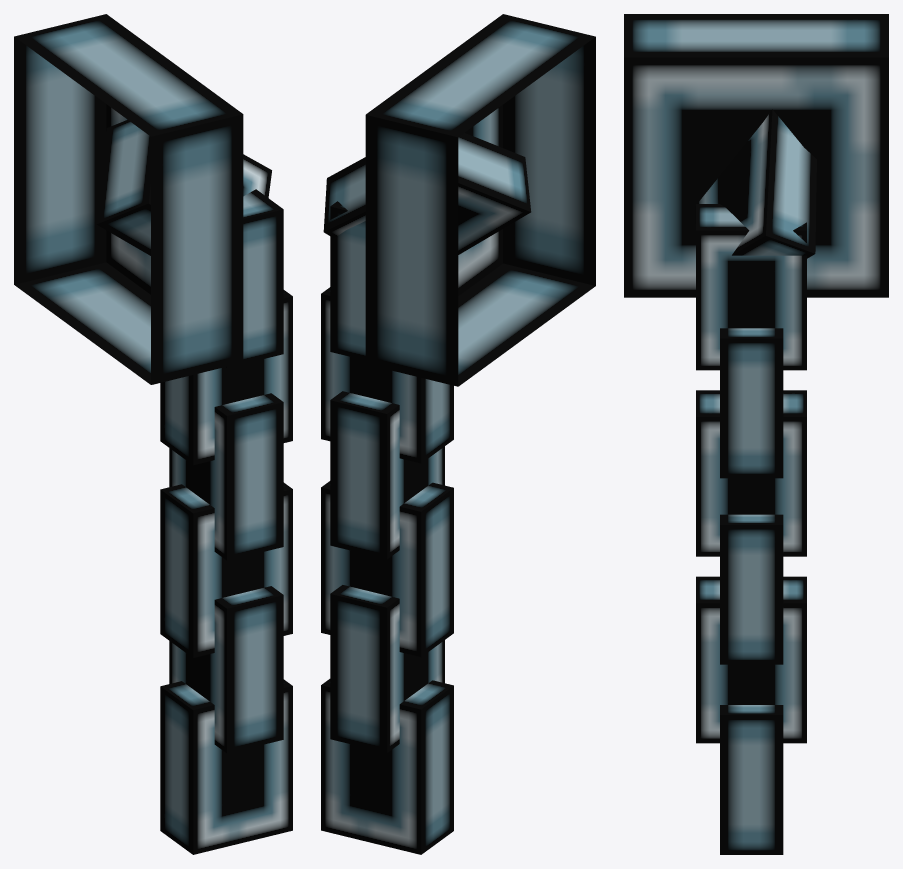
The model's file is deco_chain_end.FBX.
The picture shows the model from 3 angles, left to right: view 1: azimuth 30°, elevation 25°; view 2: azimuth 150°, elevation 25°; view 3: azimuth 270°, elevation 25°; orthographic projection. The views are drawn at different scales.
Visible parts, largest first — view 1: deco_chain_end; view 2: deco_chain_end; view 3: deco_chain_end.
Boxes of the visible parts, x1,y1,x2,y2 form: deco_chain_end: (14, 14, 292, 854); deco_chain_end: (321, 14, 595, 854); deco_chain_end: (624, 14, 888, 854).
Bounding box in the file's own units: 0.3509 × 1.34 × 0.4281.
Materials: 1 (1 with a texture image).
